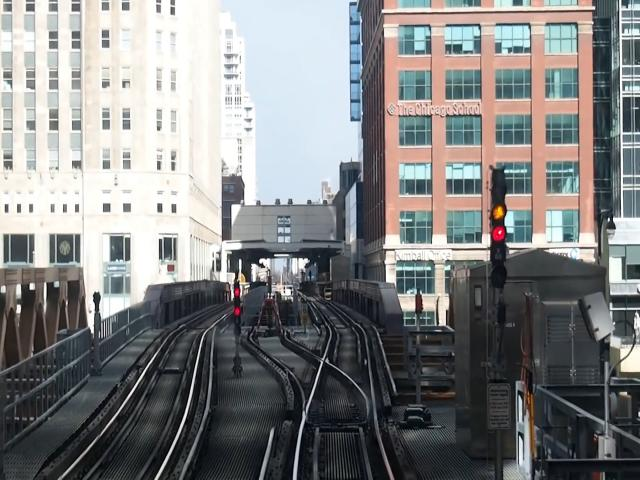signal light: (488, 164, 510, 294), (234, 280, 244, 339)
